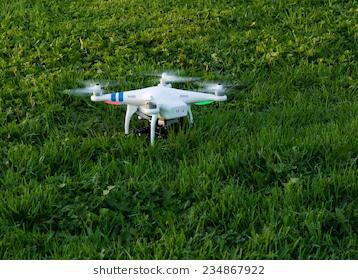drone: (65, 56, 236, 152)
